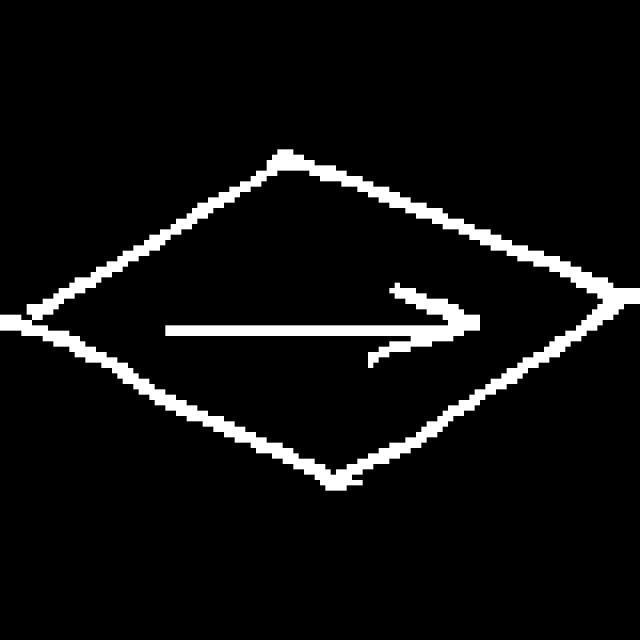dependant_current: (16, 134, 640, 502)
